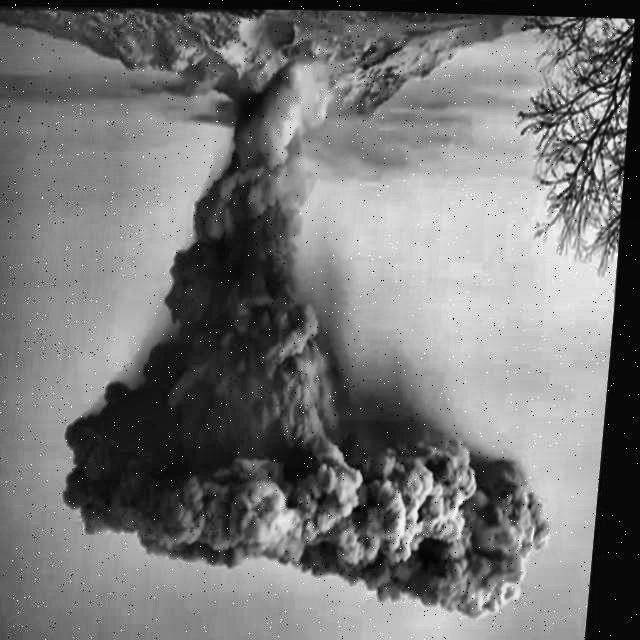Smoke: (56, 55, 587, 623)
